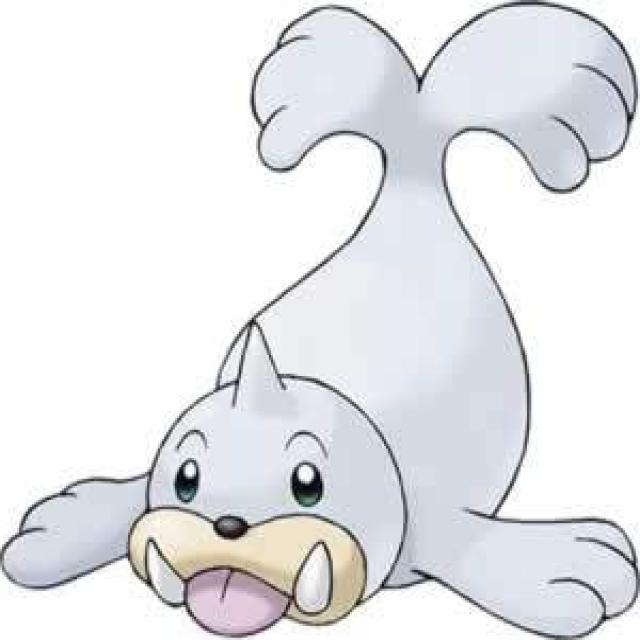Seel: (76, 5, 634, 640)
